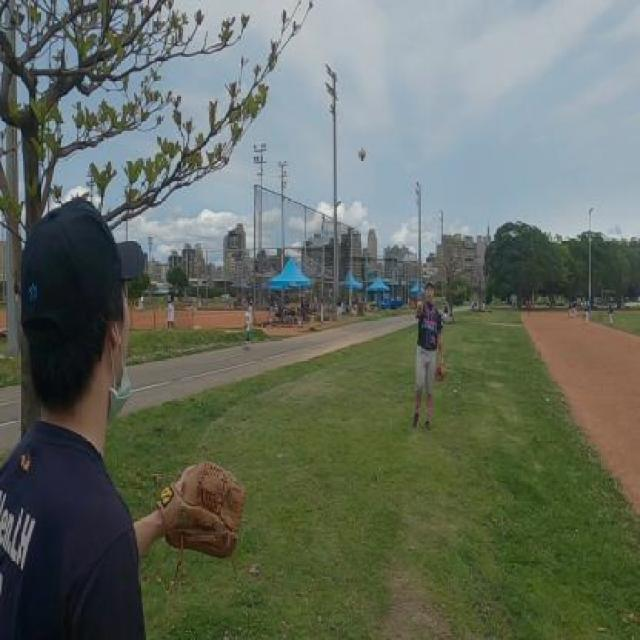baseball: (359, 146, 366, 162)
